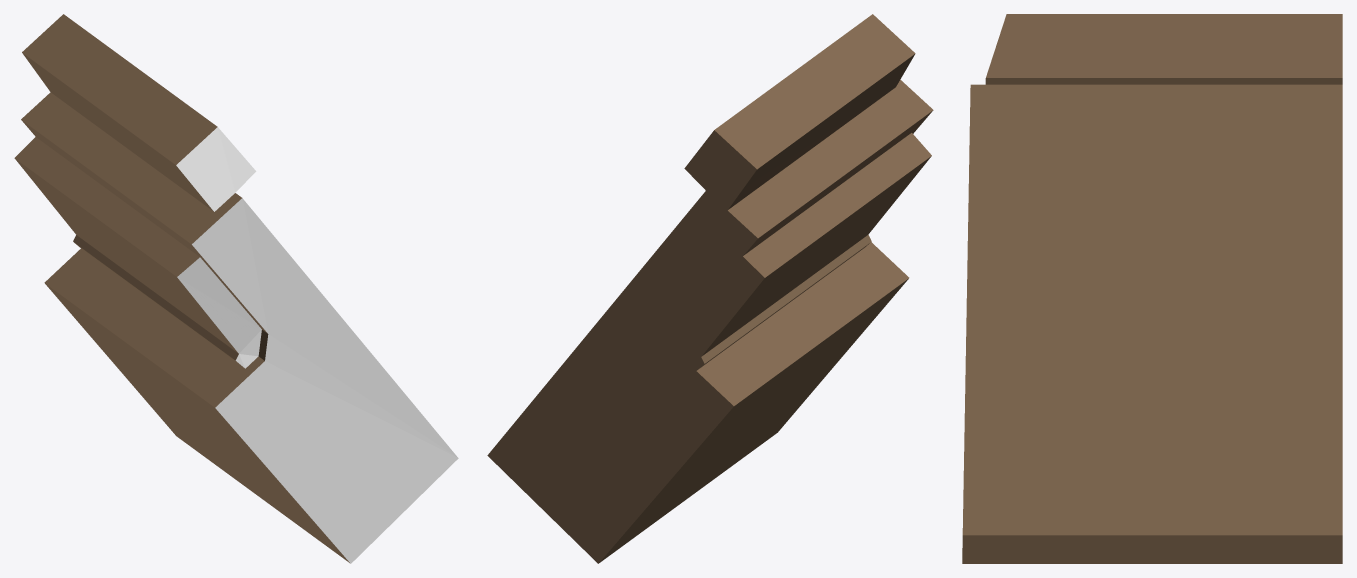
The model's file is Groupe9951522.obj.
The picture shows the model from 3 angles, left to right: view 1: azimuth 30°, elevation 25°; view 2: azimuth 150°, elevation 25°; view 3: azimuth 270°, elevation 25°; orthographic projection. The views are drawn at different scales.
Visible parts, largest first — view 1: City_Groupe9951522; view 2: City_Groupe9951522; view 3: City_Groupe9951522.
Part boxes in pixels (x1,y1,x2,y2): City_Groupe9951522: (14,14,458,563); City_Groupe9951522: (487,14,933,563); City_Groupe9951522: (962,14,1342,563).
Size of the model in its own units: 1290 by 2053 by 1445.
